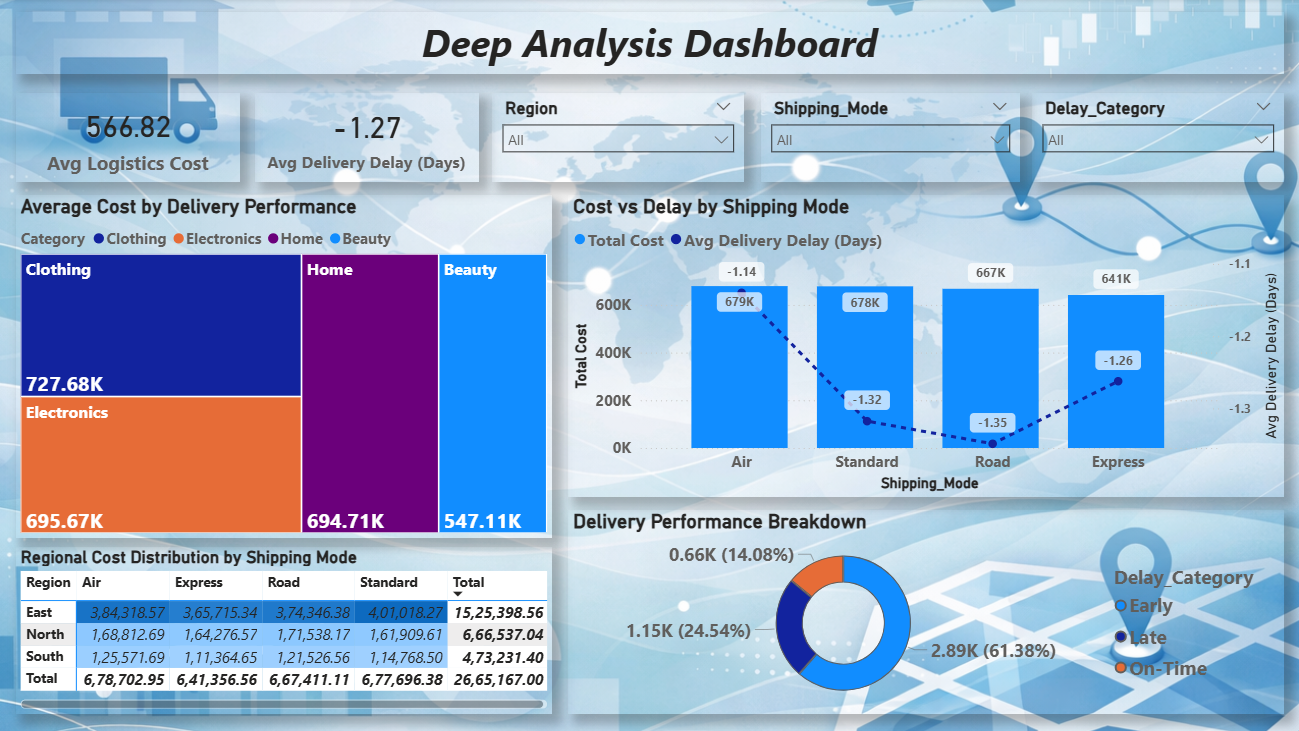

What the dashboard file says about the page in this screenshot:
{"tool":"powerbi","page":{"name":"Deep Analysis","canvas":[1280,720],"ordinal":1},"visuals":[{"type":"card","fields":{"Values":["logistics_project logistics_view.Avg Cost per Mode"]},"box":[18.6,91.6,220.3,87.3],"z":1},{"type":"card","title":"Avg Delivery Delay (Days)","fields":{"Values":["logistics_project logistics_view.Average Delay"]},"box":[253.2,91.6,220.3,87.3],"z":2},{"type":"treemap","title":"Average Cost by Delivery Performance","fields":{"Group":["logistics_project logistics_view.Category"],"Values":["logistics_project logistics_view.Total Cost"]},"box":[18.4,192.6,526.4,336.2],"z":3},{"type":"donutChart","title":"Delivery Performance Breakdown","fields":{"Y":["CountNonNull(logistics_project logistics_view.Order_ID)"],"Category":["logistics_project logistics_view.Delay_Category"]},"box":[560.8,502.1,702.4,200.3],"z":4},{"type":"lineClusteredColumnComboChart","title":"Cost vs Delay by Shipping Mode","fields":{"Category":["logistics_project logistics_view.Shipping_Mode"],"Y":["logistics_project logistics_view.Total Cost"],"Y2":["logistics_project logistics_view.Avg Delivery Delay (Days)"]},"box":[560.8,193.1,702.4,296.1],"z":5},{"type":"pivotTable","title":"Regional Cost Distribution by Shipping Mode","fields":{"Rows":["logistics_project logistics_view.Region"],"Columns":["logistics_project logistics_view.Shipping_Mode"],"Values":["logistics_project logistics_view.Total Cost"]},"box":[18.4,537.4,526.4,164.4],"z":6},{"type":"textbox","box":[18.6,12.9,1244.5,61.5],"z":7},{"type":"slicer","fields":{"Values":["logistics_project logistics_view.Region"]},"box":[486.4,91.6,247.5,87.3],"z":8},{"type":"slicer","fields":{"Values":["logistics_project logistics_view.Shipping_Mode"]},"box":[749.6,91.6,254.6,87.3],"z":9},{"type":"slicer","fields":{"Values":["logistics_project logistics_view.Delay_Category"]},"box":[1015.6,91.6,247.5,87.3],"z":10}]}

Visuals, with their boxes in screenshot pixels (x1, y1, x2, y2), scaled from the page's 1280x720 canvas onto the 1299x731 screenshot:
card - logistics_project logistics_view.Avg Cost per Mode: x1=19 y1=93 x2=242 y2=182
"Avg Delivery Delay (Days)" card: x1=257 y1=93 x2=481 y2=182
"Average Cost by Delivery Performance" treemap: x1=19 y1=196 x2=553 y2=537
"Delivery Performance Breakdown" donutChart: x1=569 y1=510 x2=1282 y2=713
"Cost vs Delay by Shipping Mode" lineClusteredColumnComboChart: x1=569 y1=196 x2=1282 y2=497
"Regional Cost Distribution by Shipping Mode" pivotTable: x1=19 y1=546 x2=553 y2=713
textbox: x1=19 y1=13 x2=1282 y2=76
slicer - logistics_project logistics_view.Region: x1=494 y1=93 x2=745 y2=182
slicer - logistics_project logistics_view.Shipping_Mode: x1=761 y1=93 x2=1019 y2=182
slicer - logistics_project logistics_view.Delay_Category: x1=1031 y1=93 x2=1282 y2=182
